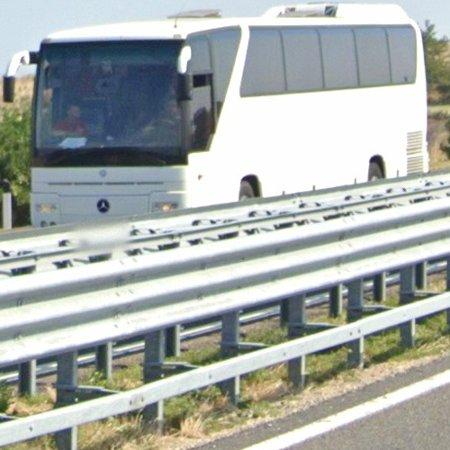buses: (3, 4, 430, 226)
